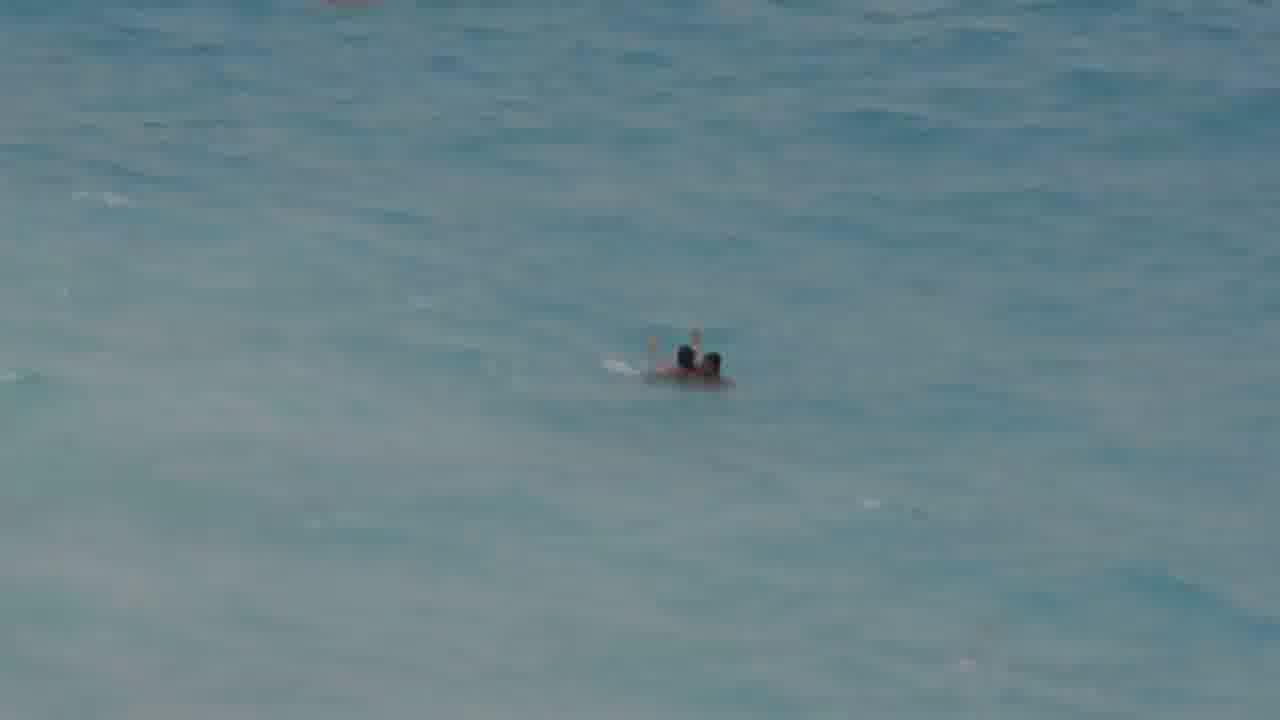human: (628, 325, 697, 379), (694, 337, 744, 399)
